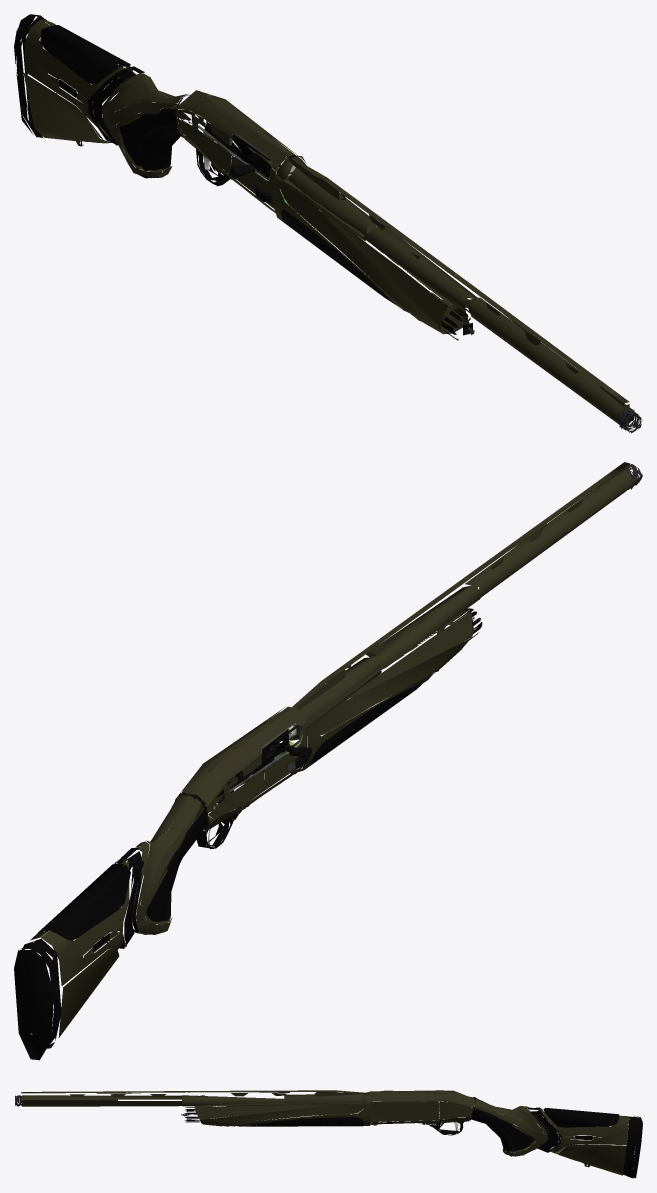
Rendered from shotgun.glb.
The picture shows the model from 3 angles, top to bottom: view 1: azimuth 30°, elevation 25°; view 2: azimuth 150°, elevation 25°; view 3: azimuth 270°, elevation 25°; orthographic projection. The views are drawn at different scales.
Parts seen in each view (by area): view 1: Canna_2, Calcio_1, Carcassa_0; view 2: Calcio_1, Canna_2, Carcassa_0; view 3: Canna_2, Calcio_1, Carcassa_0.
Boxes of the visible parts, x1,y1,x2,y2 form: Canna_2: [272, 156, 642, 433]; Calcio_1: [14, 14, 207, 178]; Carcassa_0: [175, 90, 306, 214]; Calcio_1: [14, 795, 207, 1060]; Canna_2: [289, 462, 642, 772]; Carcassa_0: [175, 706, 312, 848]; Canna_2: [15, 1090, 370, 1126]; Calcio_1: [471, 1098, 642, 1178]; Carcassa_0: [369, 1090, 475, 1135].
Bounding box in the file's own units: 7.2 × 19.74 × 127.
3 materials, 3 textured.
